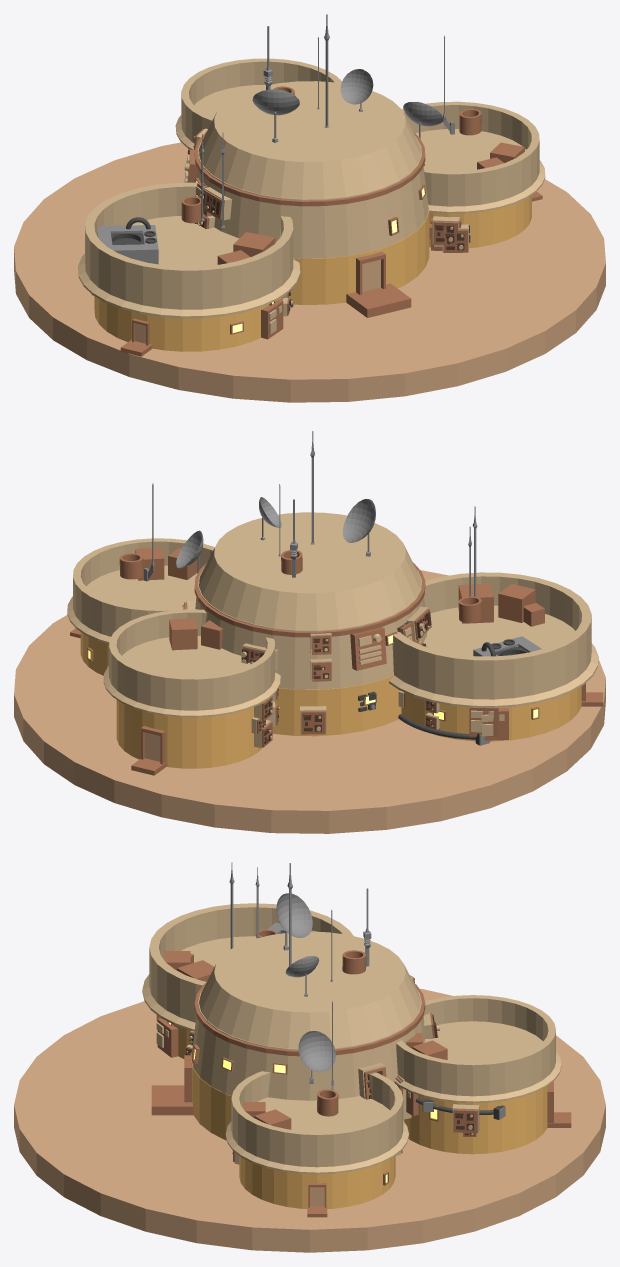
The model's file is nomad_building_14.fbx.
The picture shows the model from 3 angles, top to bottom: view 1: azimuth 30°, elevation 25°; view 2: azimuth 150°, elevation 25°; view 3: azimuth 270°, elevation 25°; orthographic projection.
Visible parts, largest first — view 1: B14_M_Foundation_foundation, B14_M_Crown_TowerBody_RoofCap, B14_A1_Crown_RoofDeck_Ringwall, B14_A3_Crown_RoofDeck_Ringwall, B14_M_Drum1, B14_A2_Crown_RoofDeck_Ringwall, B14_M_Drum0, B14_A1_Drum0, B14_A3_Drum0, B14_M_Ring10_TowerTrim_BandThin, B14_M_Step_TowerTrim_DoorStep, B14_A1_Crown_RoofVent_Housing (+9 smaller); view 2: B14_M_Foundation_foundation, B14_M_Crown_TowerBody_RoofCap, B14_A1_Crown_RoofDeck_Ringwall, B14_A2_Crown_RoofDeck_Ringwall, B14_A3_Crown_RoofDeck_Ringwall, B14_A2_Drum0, B14_M_Drum1, B14_M_Drum0, B14_A1_Drum0, B14_M_Ring10_TowerTrim_BandThin, B14_A1_Crown_RoofDeck_BlockMed, B14_M_Dish1_AntennaDish_Reflector (+8 smaller); view 3: B14_M_Foundation_foundation, B14_M_Crown_TowerBody_RoofCap, B14_A2_Crown_RoofDeck_Ringwall, B14_A3_Crown_RoofDeck_Ringwall, B14_A1_Crown_RoofDeck_Ringwall, B14_M_Drum1, B14_A2_Drum0, B14_A3_Drum0, B14_M_Drum0, B14_M_Ring10_TowerTrim_BandThin, B14_A3_Dish0_AntennaDish_Reflector, B14_M_Step_TowerTrim_DoorStep (+4 smaller).
Part boxes in pixels (x1=…): B14_M_Foundation_foundation: x1=14, y1=142, x2=605, y2=402; B14_M_Crown_TowerBody_RoofCap: x1=199, y1=81, x2=420, y2=199; B14_A1_Crown_RoofDeck_Ringwall: x1=78, y1=182, x2=300, y2=318; B14_A3_Crown_RoofDeck_Ringwall: x1=401, y1=101, x2=545, y2=213; B14_M_Drum1: x1=197, y1=136, x2=428, y2=258; B14_A2_Crown_RoofDeck_Ringwall: x1=175, y1=58, x2=341, y2=149; B14_M_Drum0: x1=288, y1=204, x2=429, y2=304; B14_A1_Drum0: x1=94, y1=296, x2=283, y2=351; B14_A3_Drum0: x1=429, y1=195, x2=531, y2=248; B14_M_Ring10_TowerTrim_BandThin: x1=194, y1=131, x2=425, y2=206; B14_M_Step_TowerTrim_DoorStep: x1=346, y1=283, x2=411, y2=317; B14_A1_Crown_RoofVent_Housing: x1=97, y1=225, x2=158, y2=264; B14_M_Foundation_foundation: x1=14, y1=570, x2=605, y2=833; B14_M_Crown_TowerBody_RoofCap: x1=199, y1=512, x2=420, y2=630; B14_A1_Crown_RoofDeck_Ringwall: x1=389, y1=572, x2=598, y2=708; B14_A2_Crown_RoofDeck_Ringwall: x1=103, y1=609, x2=280, y2=717; B14_A3_Crown_RoofDeck_Ringwall: x1=67, y1=538, x2=214, y2=643; B14_A2_Drum0: x1=116, y1=700, x2=267, y2=768; B14_M_Drum1: x1=195, y1=568, x2=427, y2=689; B14_M_Drum0: x1=272, y1=675, x2=401, y2=736; B14_A1_Drum0: x1=401, y1=686, x2=581, y2=741; B14_M_Ring10_TowerTrim_BandThin: x1=194, y1=562, x2=425, y2=637; B14_A1_Crown_RoofDeck_BlockMed: x1=498, y1=584, x2=535, y2=622; B14_M_Dish1_AntennaDish_Reflector: x1=342, y1=499, x2=375, y2=542; B14_M_Foundation_foundation: x1=14, y1=988, x2=605, y2=1252; B14_M_Crown_TowerBody_RoofCap: x1=199, y1=931, x2=420, y2=1048; B14_A2_Crown_RoofDeck_Ringwall: x1=394, y1=995, x2=561, y2=1103; B14_A3_Crown_RoofDeck_Ringwall: x1=225, y1=1071, x2=408, y2=1174; B14_A1_Crown_RoofDeck_Ringwall: x1=142, y1=903, x2=353, y2=1031; B14_M_Drum1: x1=191, y1=990, x2=424, y2=1100; B14_A2_Drum0: x1=404, y1=1085, x2=548, y2=1154; B14_A3_Drum0: x1=239, y1=1156, x2=395, y2=1208; B14_M_Drum0: x1=190, y1=1055, x2=404, y2=1140; B14_M_Ring10_TowerTrim_BandThin: x1=194, y1=982, x2=425, y2=1056; B14_A3_Dish0_AntennaDish_Reflector: x1=298, y1=1031, x2=335, y2=1072; B14_M_Step_TowerTrim_DoorStep: x1=151, y1=1085, x2=193, y2=1115.
Size of the model in its own units: 1218 by 609 by 1218.
